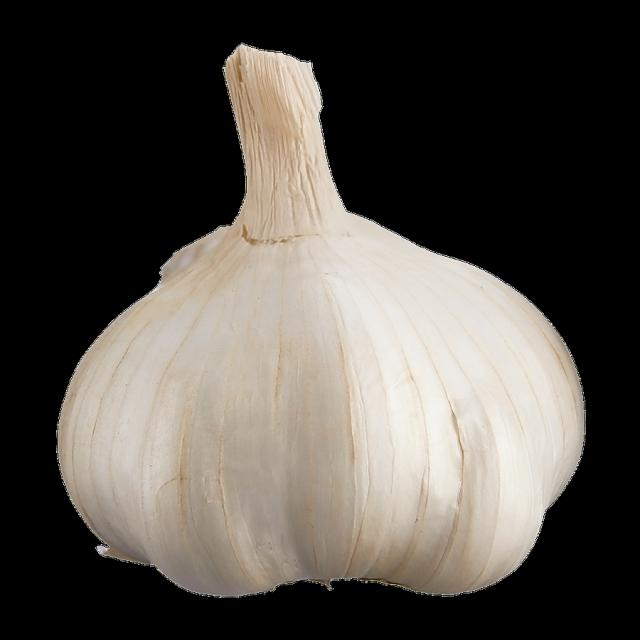garlic: (51, 172, 586, 610)
